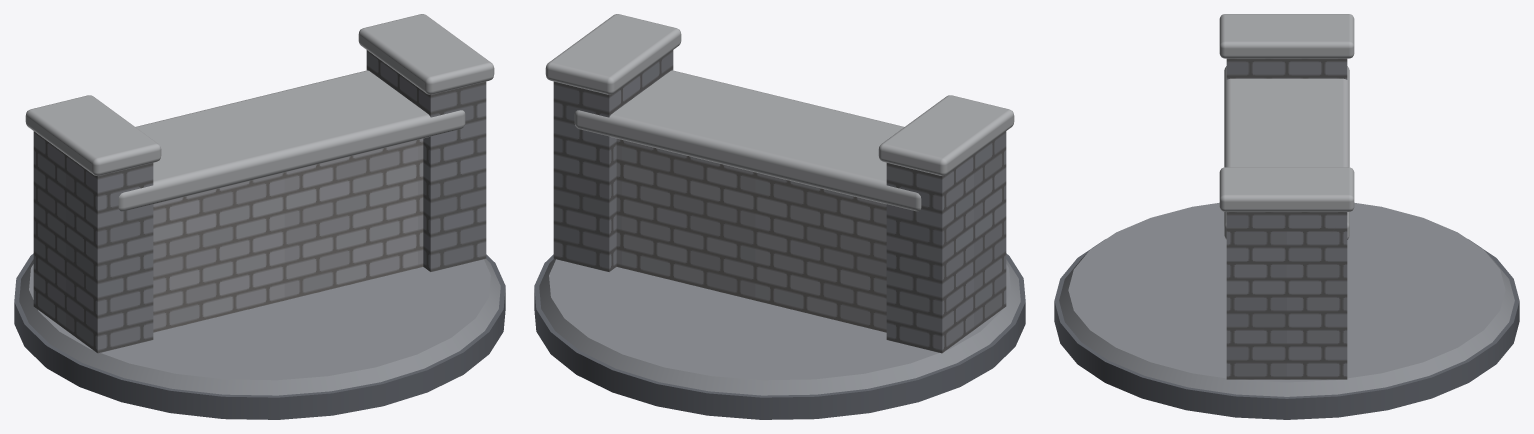
Rendered from tier-03-wall.glb.
3 views of the same model, side by side, from view 1: azimuth 30°, elevation 25°; view 2: azimuth 150°, elevation 25°; view 3: azimuth 270°, elevation 25° (orthographic). The views are drawn at different scales.
Parts seen in each view (by area): view 1: matte, brick; view 2: matte, brick; view 3: matte, brick.
Part boxes in pixels (<box>): matte: <box>14,14,505,419</box>; brick: <box>33,50,486,353</box>; matte: <box>534,14,1025,419</box>; brick: <box>553,50,1006,353</box>; matte: <box>1054,14,1519,419</box>; brick: <box>1226,58,1347,379</box>.
Bounding box in the file's own units: 1 × 0.515 × 1.
Materials: 2 (1 with a texture image).
